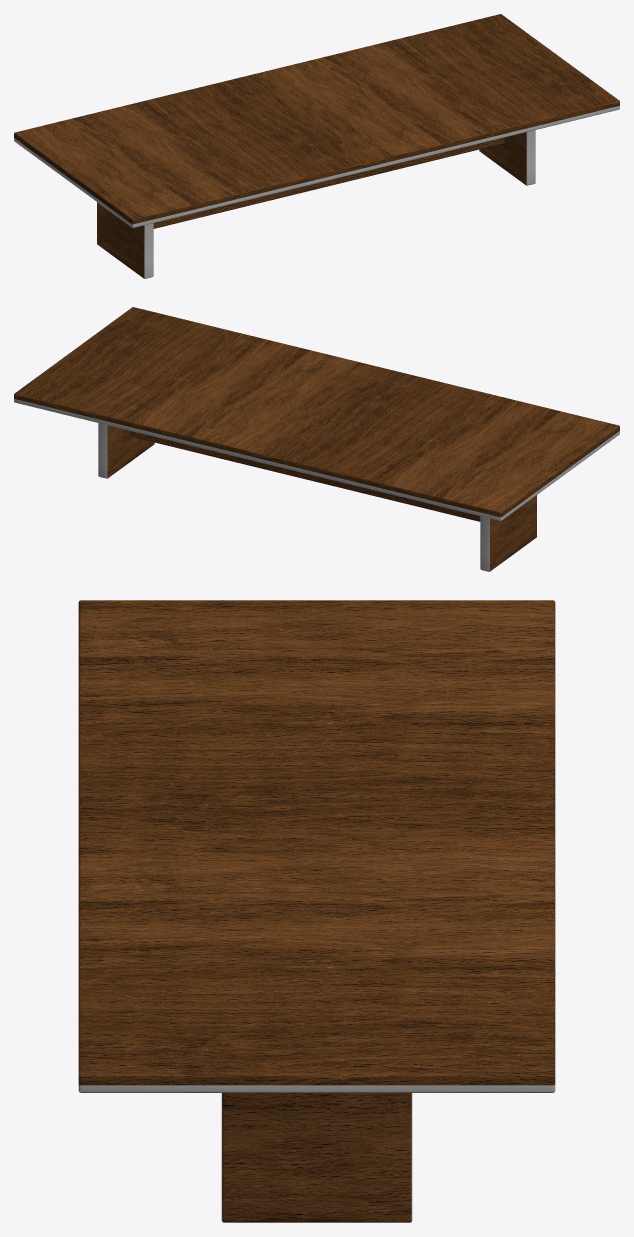
The picture shows the model from 3 angles, top to bottom: view 1: azimuth 30°, elevation 25°; view 2: azimuth 150°, elevation 25°; view 3: azimuth 270°, elevation 25°; orthographic projection. The views are drawn at different scales.
Visible parts, largest first — view 1: 90, 101; view 2: 90, 101; view 3: 90, 101.
Part boxes in pixels (x1=…): 90: x1=14, y1=14, x2=619, y2=278; 101: x1=14, y1=105, x2=619, y2=278; 90: x1=14, y1=307, x2=619, y2=571; 101: x1=14, y1=399, x2=619, y2=571; 90: x1=78, y1=600, x2=555, y2=1222; 101: x1=78, y1=1085, x2=555, y2=1221.
Bounding box in the file's own units: 5.15 × 0.9865 × 2.18.
2 materials, 1 textured.
